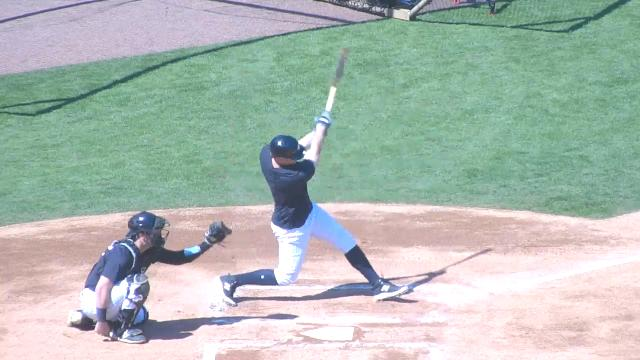bat: (326, 46, 350, 110)
